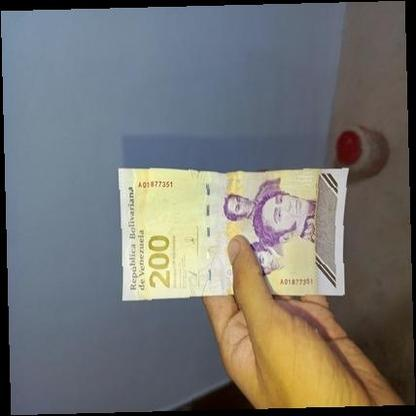two_hundred-front-vef: (117, 167, 353, 302)
